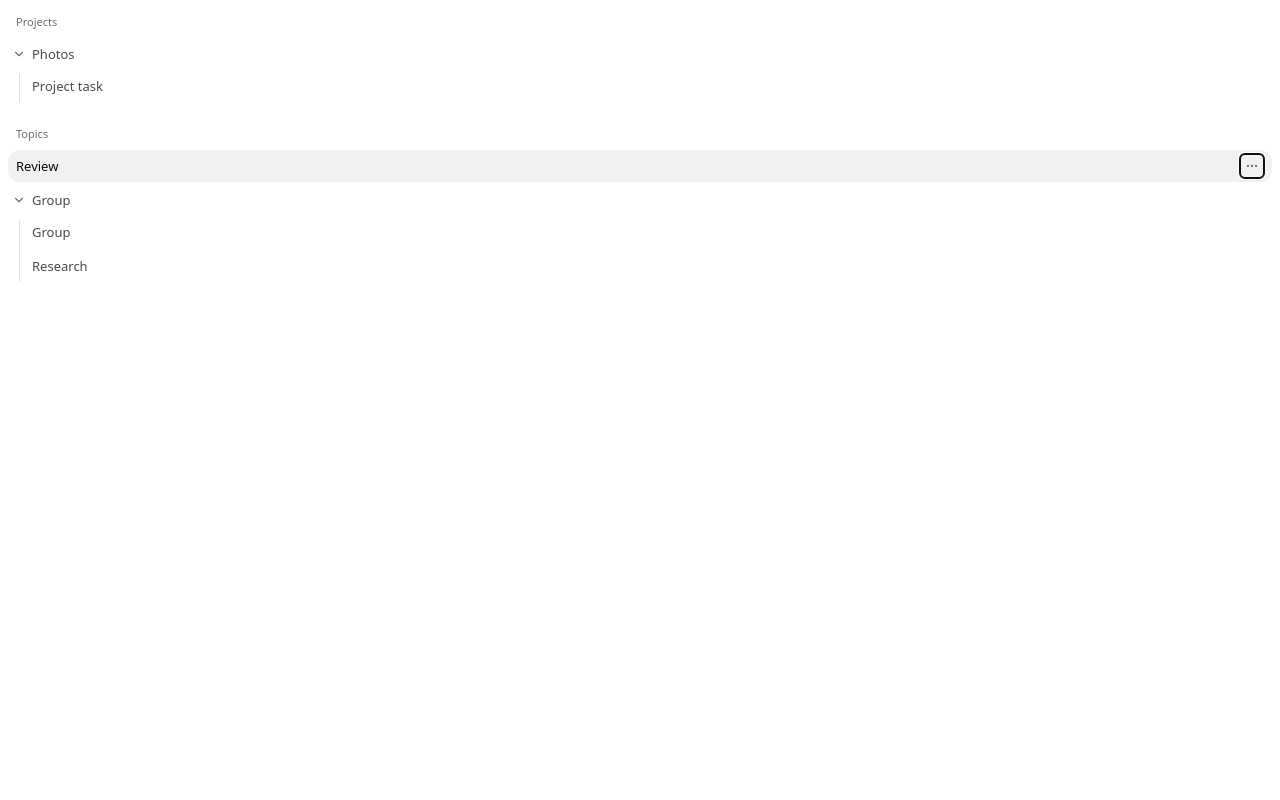
it: sidebar action focus › does not reuse Escape focus restoration when the next action opens Rename
Press Enter Escape
Press Enter
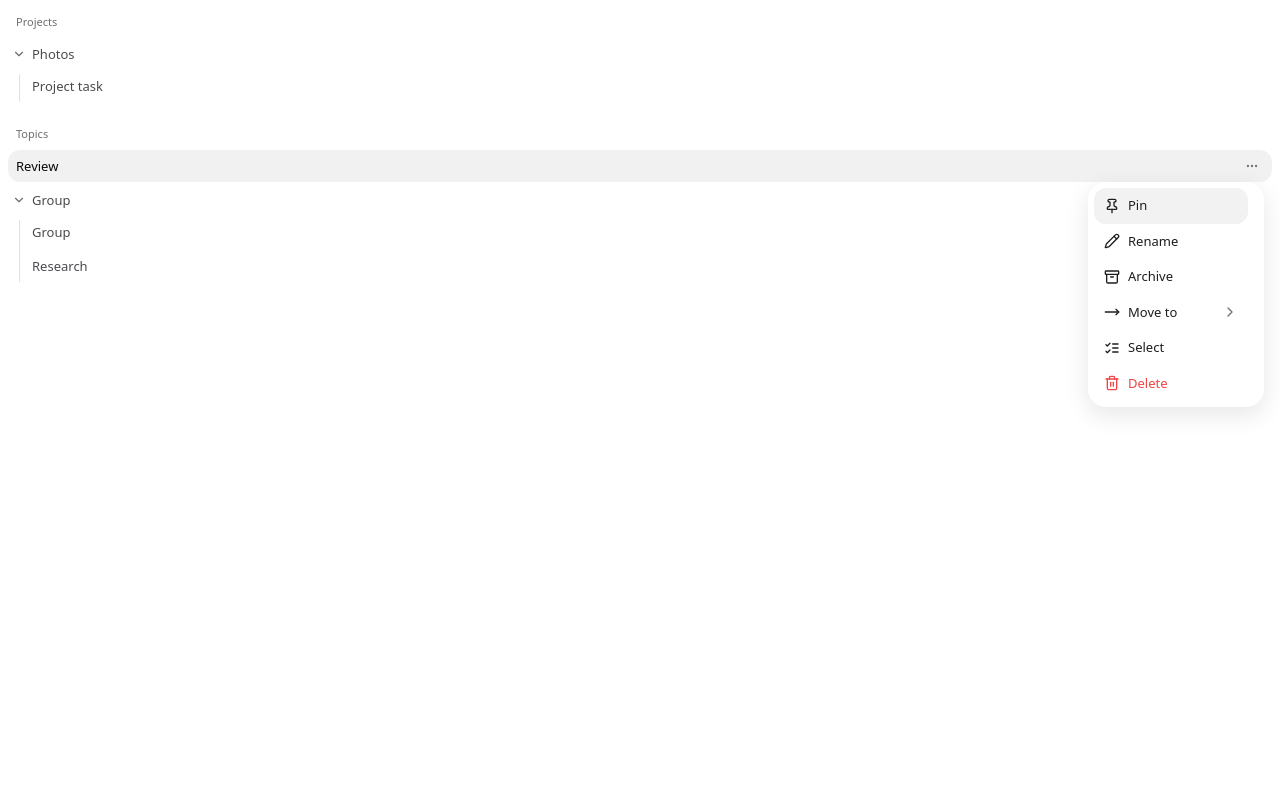
Click the menu item "Rename": (1141, 240) [1104,232,1178,250]
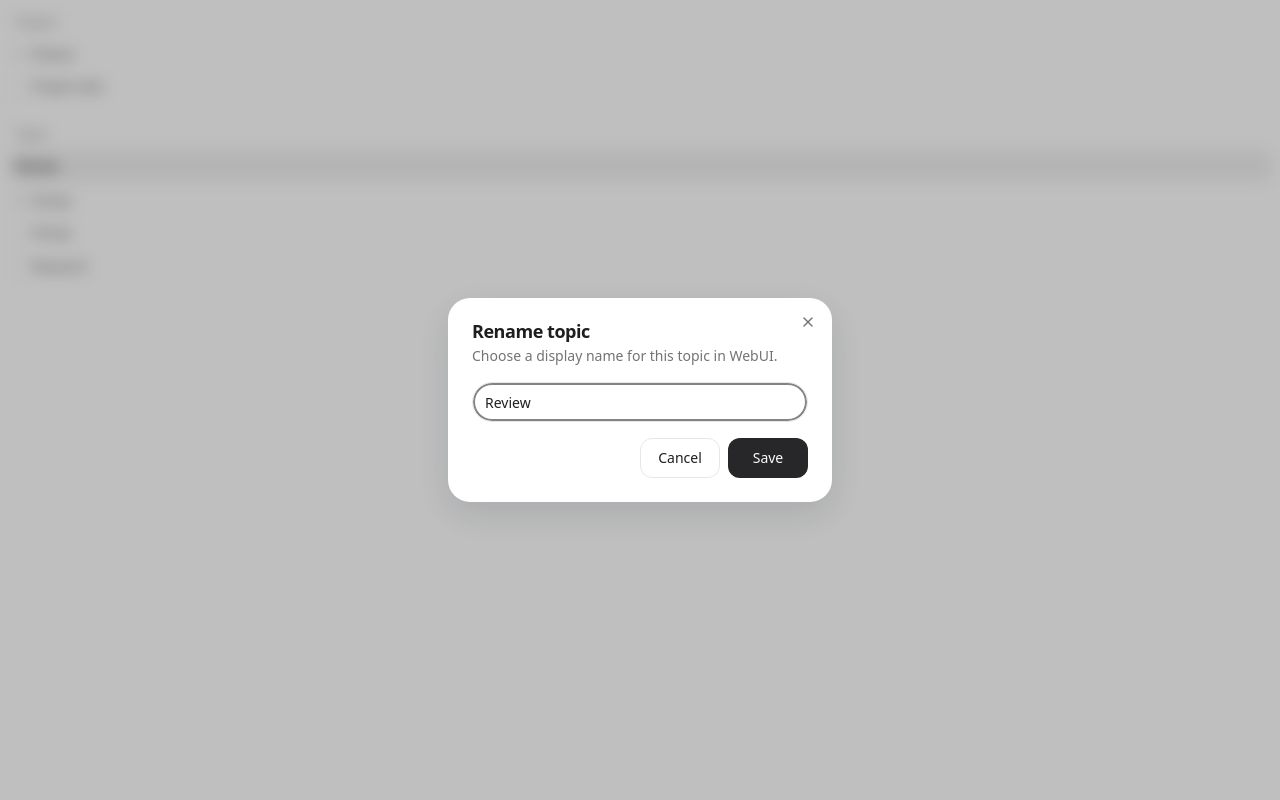
Result: the menu is gone
Type keys "Updated"
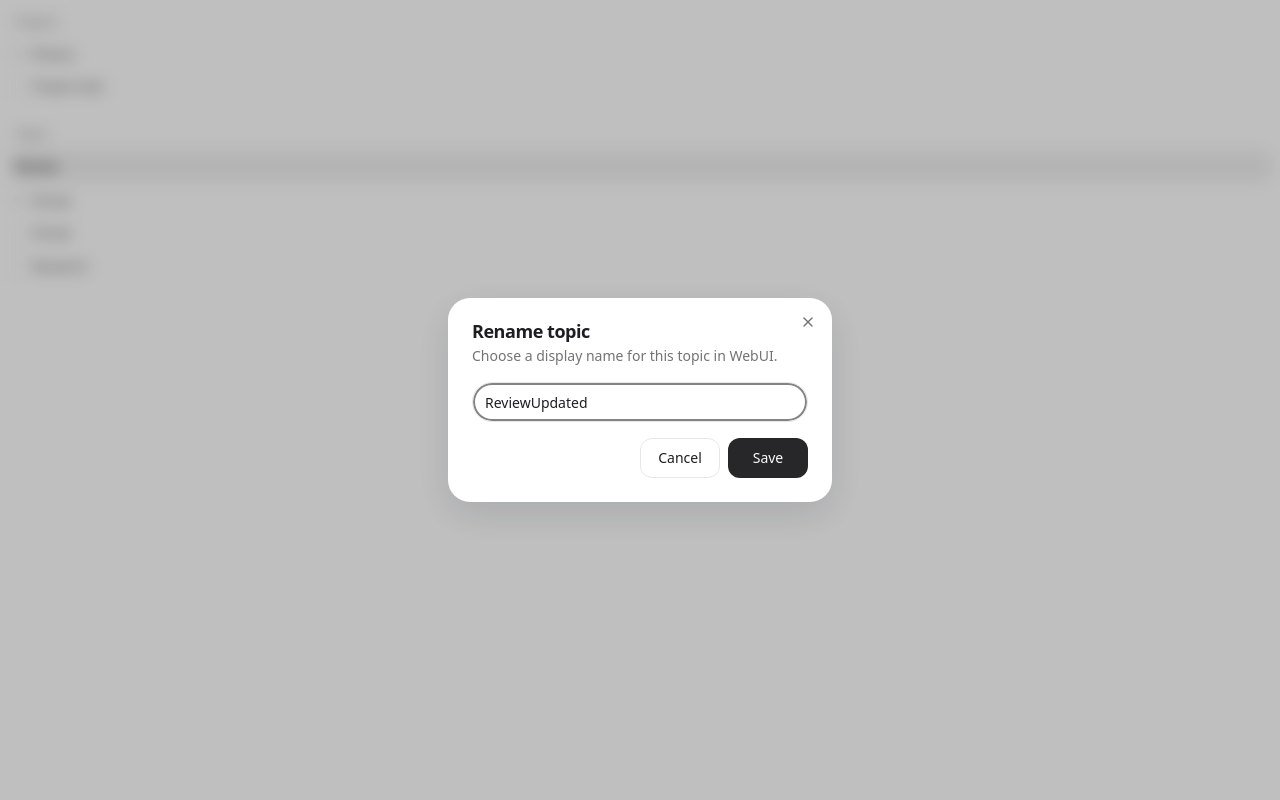
Result: the field with placeholder "Topic name" holds "ReviewUpdated" at [472,382,808,422]
